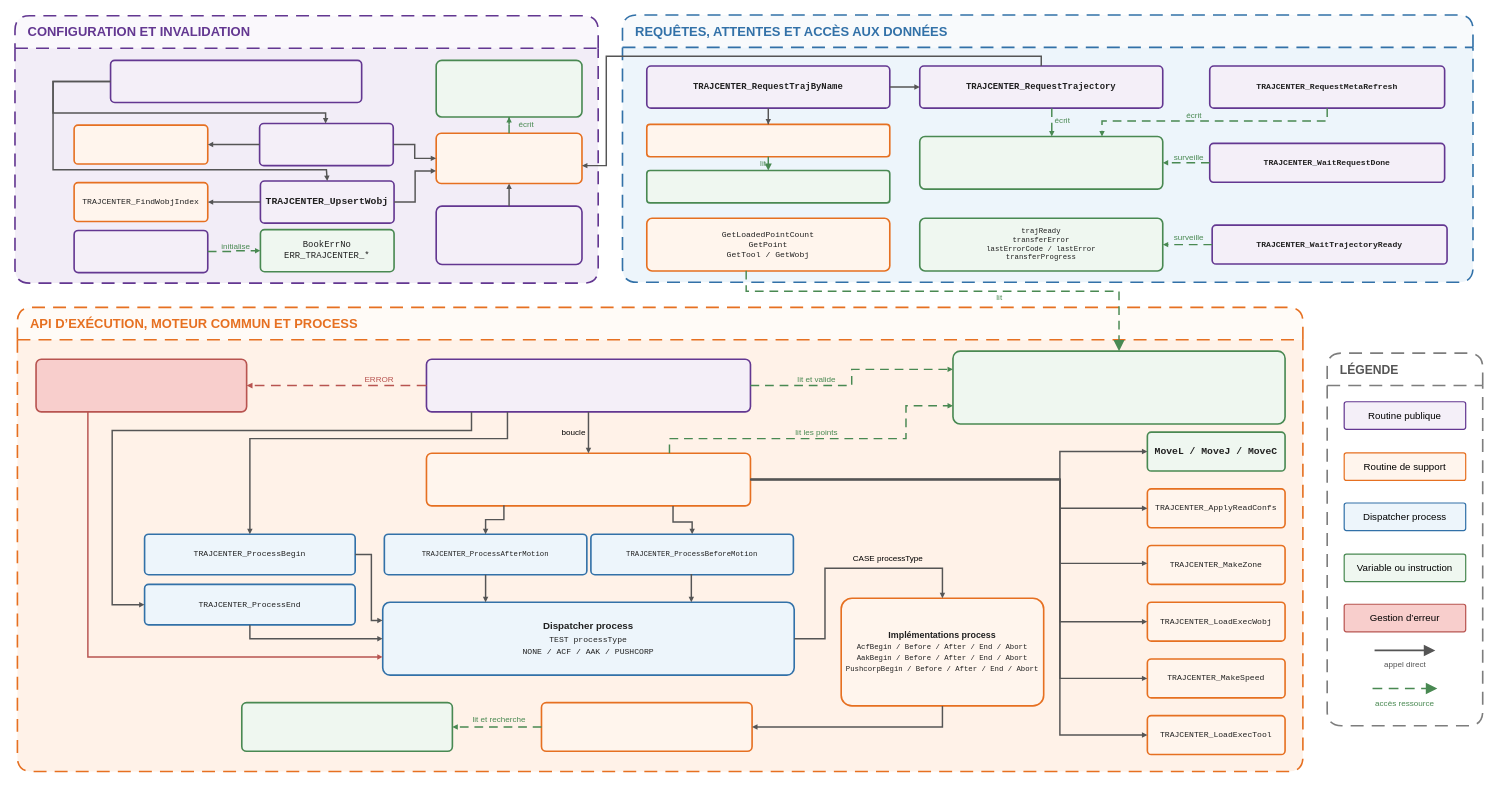
The diagram is 1497 pixels wide and 786 high, and some of its shapes have lost their labels. The centre of each missing label's shape, as x and y in pixels:
DeleteTool / DeleteWobj ClearTools / ClearWobjs ClearCellConfig: (x=508, y=235)
nbTrajAvailable trajectories{i}: (x=768, y=186)
selectedTrajIndex sendTrajRequest refreshMetaRequest: (x=1041, y=162)
TRAJCENTER_ExecuteLoaded API publique unique: (x=588, y=385)
TRAJCENTER_ExecuteOneMotion moteur commun et validation MoveC: (x=588, y=479)
TRAJCENTER_FindToolIndex: (x=140, y=144)
TRAJCENTER_FindTrajectoryIndex: (x=768, y=140)
TRAJCENTER_GetProcessParam accès contrôlé à processParams: (x=646, y=726)
TRAJCENTER_InitCellConfig: (x=235, y=81)
TRAJCENTER_InitErrors: (x=140, y=251)
TRAJCENTER_InvalidateLoaded LOCAL: (x=508, y=158)
TRAJCENTER_ProcessAbort gestionnaire ERROR: (x=141, y=385)
TRAJCENTER_UpsertTool: (x=326, y=144)
trajData{pointIndex}.processParamIndex processParams{setIndex, paramIndex}: (x=347, y=726)
trajReady := FALSE nbLoadedTrajPoints := 0 loadedProcessType := processNone: (x=508, y=88)
trajReady nbLoadedTrajPoints loadedProcessType trajData processParams: (x=1118, y=387)
